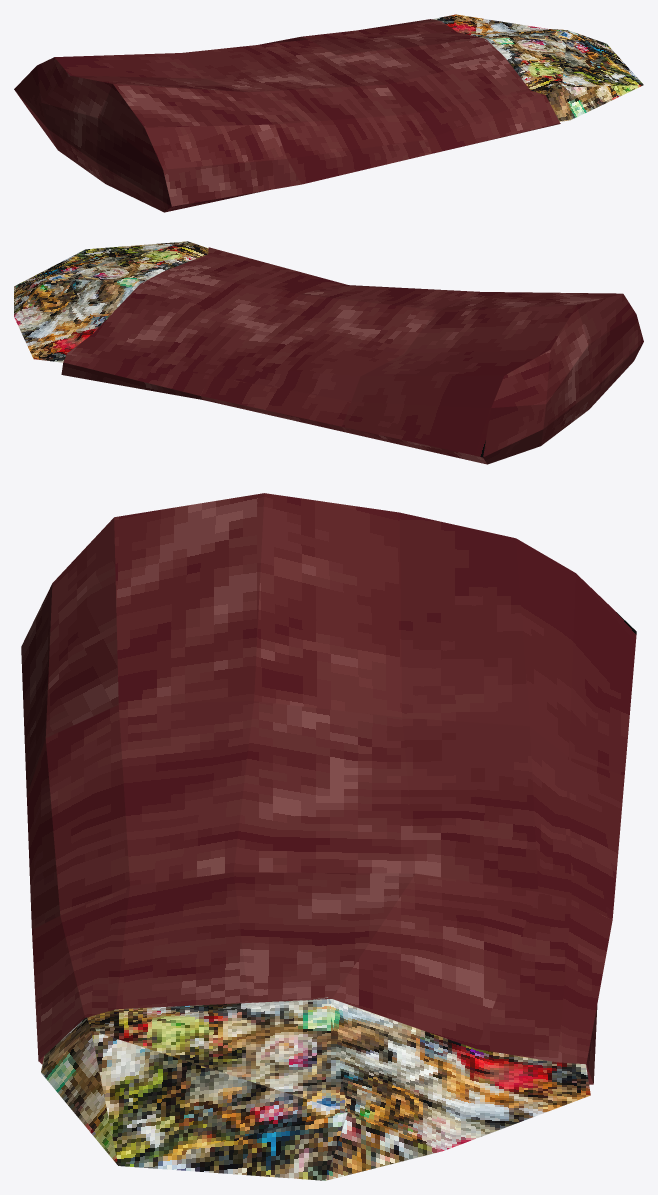
File: trashbag_3_red.glb
3 views of the same model, one above another, from view 1: azimuth 30°, elevation 25°; view 2: azimuth 150°, elevation 25°; view 3: azimuth 270°, elevation 25° (orthographic). The views are drawn at different scales.
Parts seen in each view (by area): view 1: trashbag_3_red; view 2: trashbag_3_red; view 3: trashbag_3_red.
Boxes of the visible parts, left/top/right/bottom form: trashbag_3_red: left=14, top=14, right=643, bottom=212; trashbag_3_red: left=14, top=241, right=643, bottom=464; trashbag_3_red: left=21, top=493, right=636, bottom=1180.
Size of the model in its own units: 1.73 by 0.3175 by 0.8694.
Materials: 2 (2 with a texture image).
